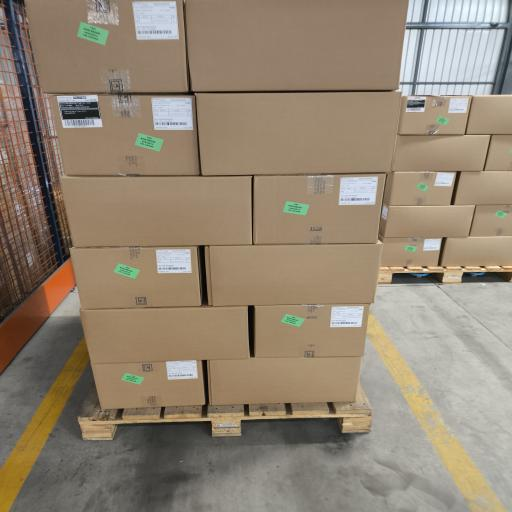pallet: (79, 386, 371, 440), (379, 266, 511, 284)
